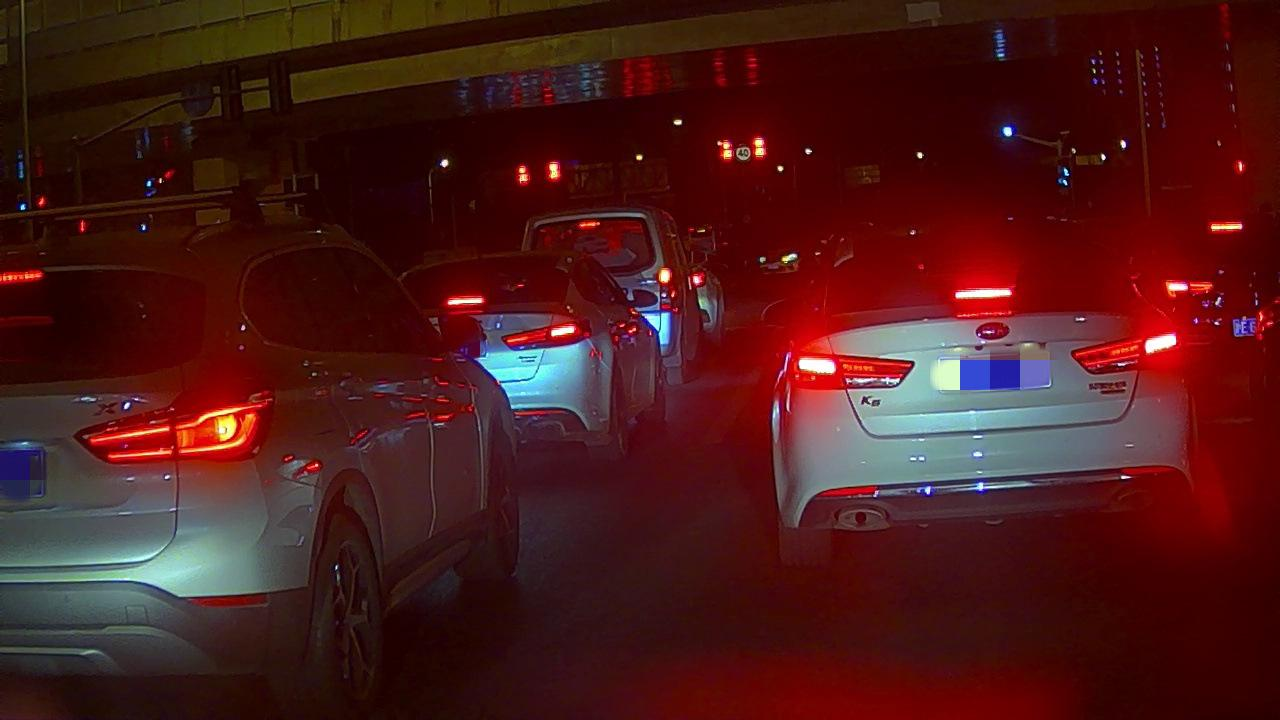traffic_light: (512, 158, 532, 187), (543, 159, 566, 184), (750, 134, 766, 161), (717, 138, 734, 162)
